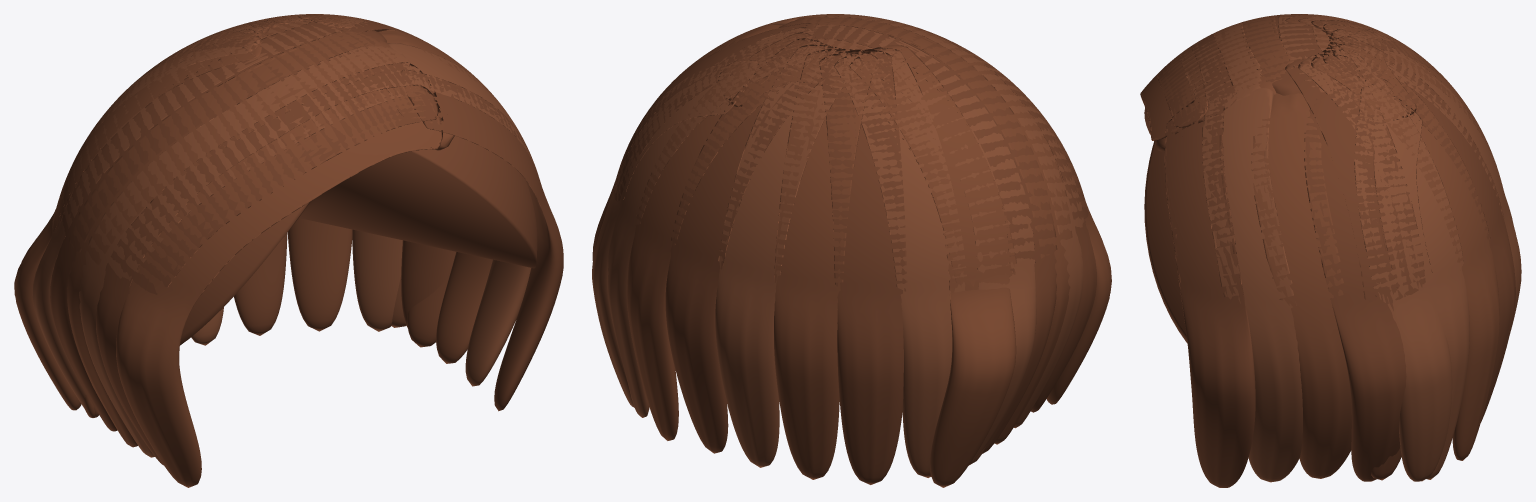
Rendered from Feminine-bob-closed-hair.glb.
3 views of the same model, side by side, from view 1: azimuth 30°, elevation 25°; view 2: azimuth 150°, elevation 25°; view 3: azimuth 270°, elevation 25° (orthographic). The views are drawn at different scales.
Parts seen in each view (by area): view 1: 226 hair / Hair / sculpted 0.001, 226 hair / Hair / sculpted 1.001, 226 hair / Hair / sculpted 2.001, 226 hair / Hair / sculpted 1.002; view 2: 226 hair / Hair / sculpted 0.001, 226 hair / Hair / sculpted 2.001, 226 hair / Hair / sculpted 1.001; view 3: 226 hair / Hair / sculpted 1.001, 226 hair / Hair / sculpted 2.001, 226 hair / Hair / sculpted 0.001, 226 hair / Hair / sculpted 1.002.
Part boxes in pixels (x1,y1,x2,y2): 226 hair / Hair / sculpted 0.001: [14, 14, 502, 487]; 226 hair / Hair / sculpted 1.001: [50, 14, 563, 465]; 226 hair / Hair / sculpted 2.001: [32, 14, 536, 457]; 226 hair / Hair / sculpted 1.002: [180, 136, 537, 345]; 226 hair / Hair / sculpted 0.001: [627, 14, 1111, 487]; 226 hair / Hair / sculpted 2.001: [592, 14, 1084, 477]; 226 hair / Hair / sculpted 1.001: [592, 14, 1096, 484]; 226 hair / Hair / sculpted 1.001: [1157, 14, 1515, 487]; 226 hair / Hair / sculpted 2.001: [1180, 14, 1521, 482]; 226 hair / Hair / sculpted 0.001: [1140, 14, 1512, 478]; 226 hair / Hair / sculpted 1.002: [1144, 107, 1187, 343].
Bounding box in the file's own units: 1 × 0.8172 × 0.7544.
